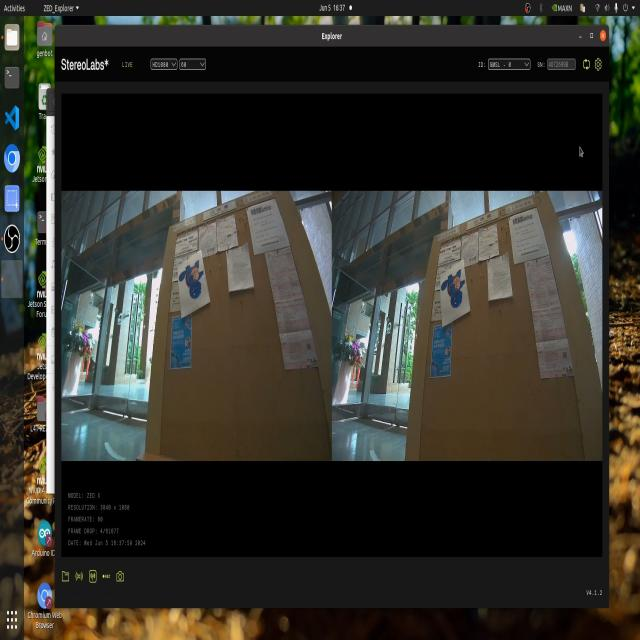blue: (170, 259, 211, 298), (438, 271, 468, 307)
